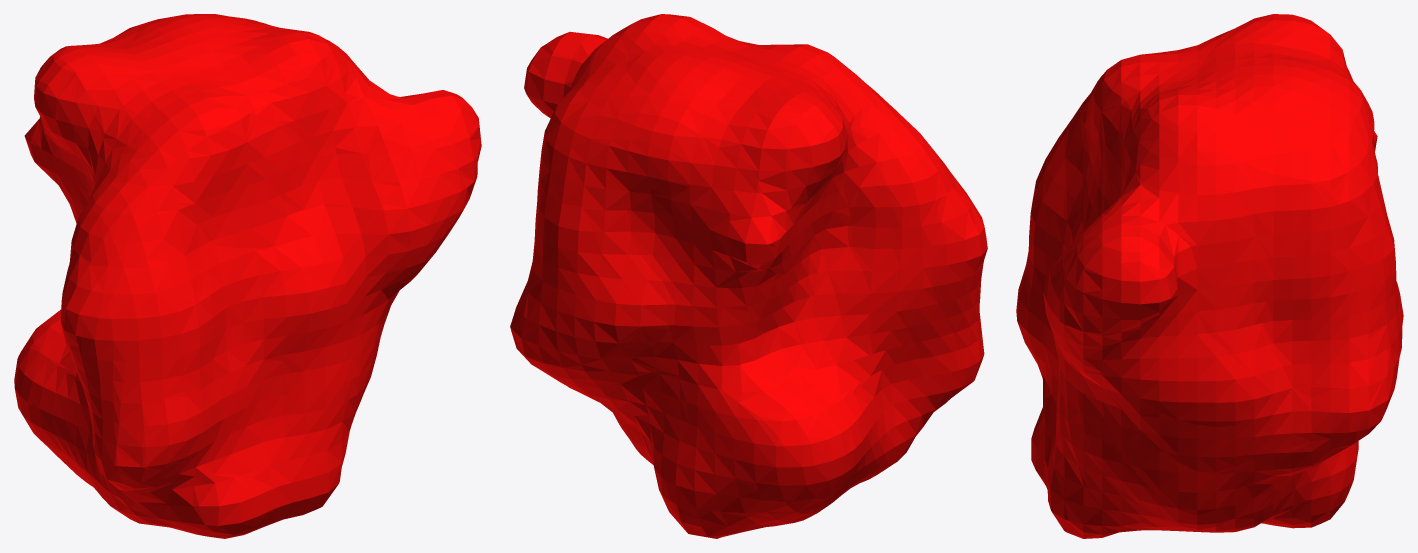
The model's file is rpsF_coarse.dae.
The picture shows the model from 3 angles, left to right: view 1: azimuth 30°, elevation 25°; view 2: azimuth 150°, elevation 25°; view 3: azimuth 270°, elevation 25°; orthographic projection. The views are drawn at different scales.
Parts seen in each view (by area): view 1: rpsF; view 2: rpsF; view 3: rpsF.
Part boxes in pixels (x1,y1,x2,y2): rpsF: (14,14,481,538); rpsF: (510,14,987,538); rpsF: (1016,14,1403,538).
Bounding box in the file's own units: 44.16 × 44.05 × 32.57.
